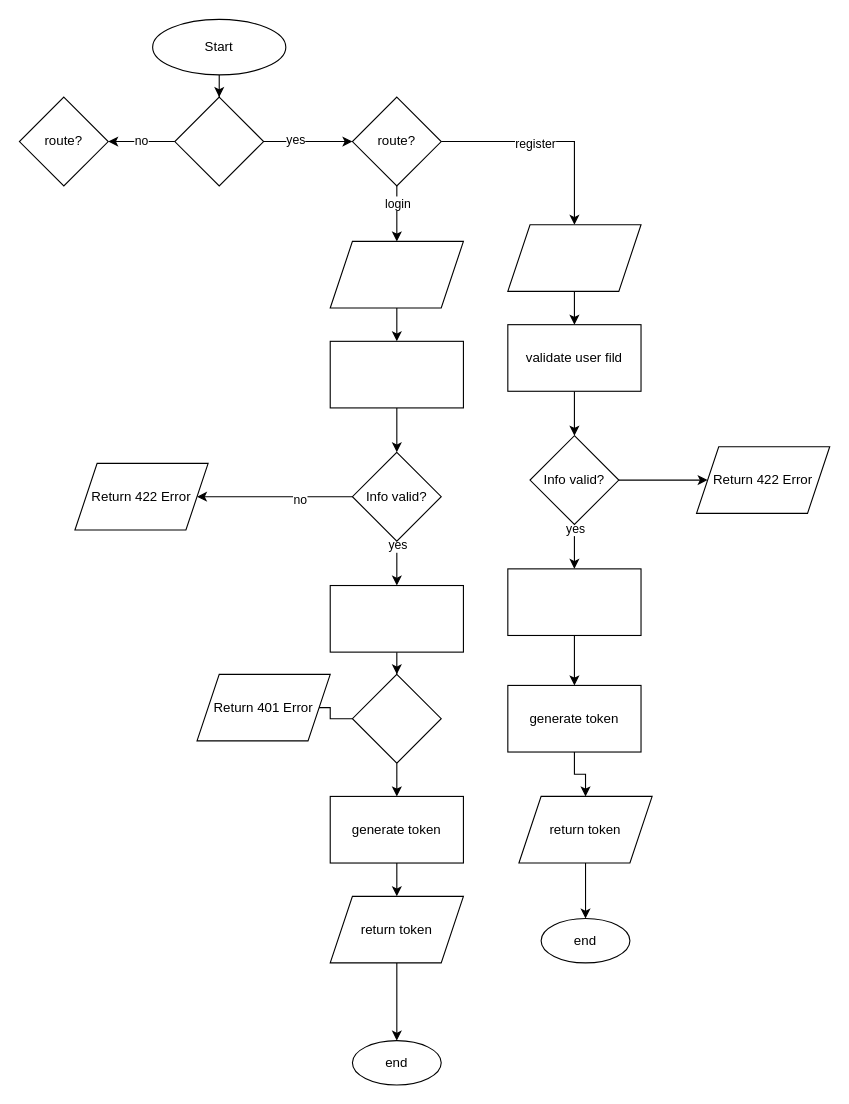
This 849x1104 diagram has some shape labels left out. The box of each missing label's shape, as (x1, y1, x2, y2) in pixels:
check user data: (329, 584, 463, 652)
create user: (507, 568, 641, 635)
get user and password: (329, 240, 463, 308)
get user and password and name: (507, 224, 641, 291)
Is Guest: (174, 96, 264, 186)
user password valid?: (351, 673, 441, 763)
validate user and password filds: (329, 340, 463, 408)
